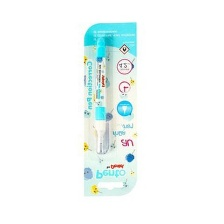book: (81, 20, 139, 199)
correction_fluid: (90, 35, 110, 157)
